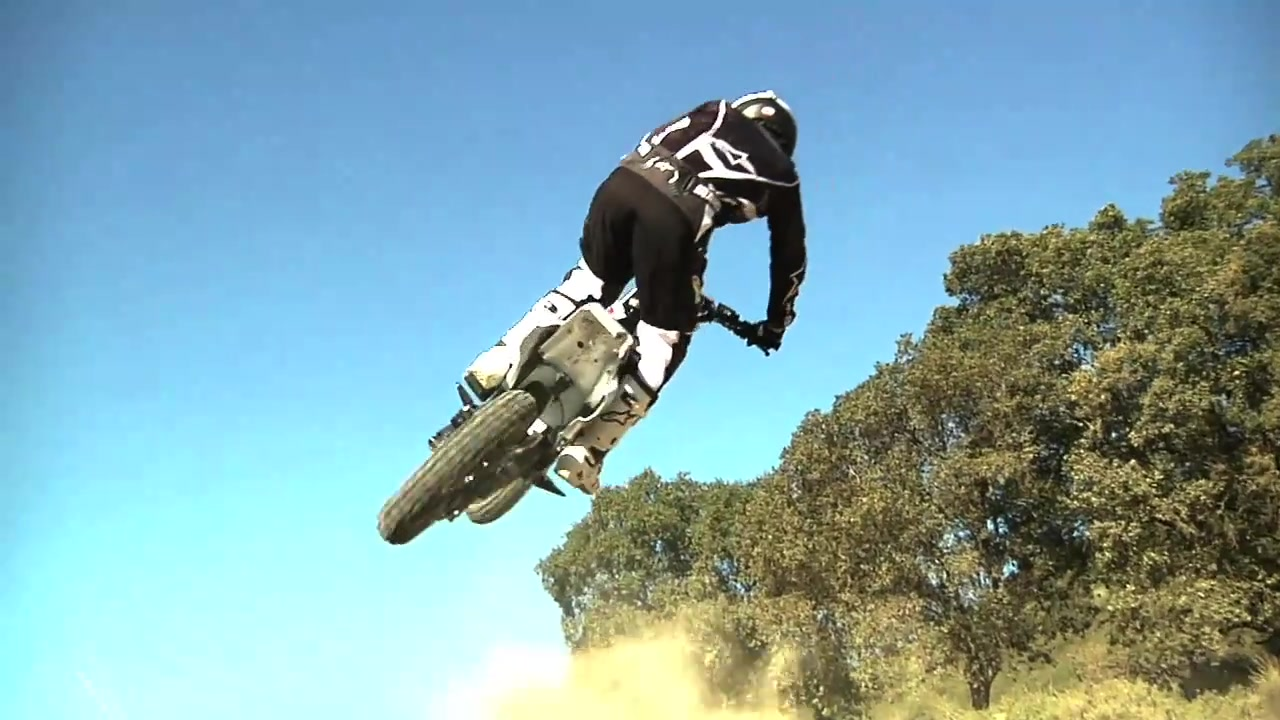motorbike: (375, 259, 782, 547)
